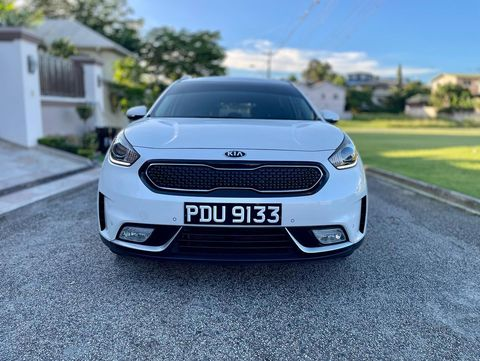License-Plate: (184, 201, 281, 223)
